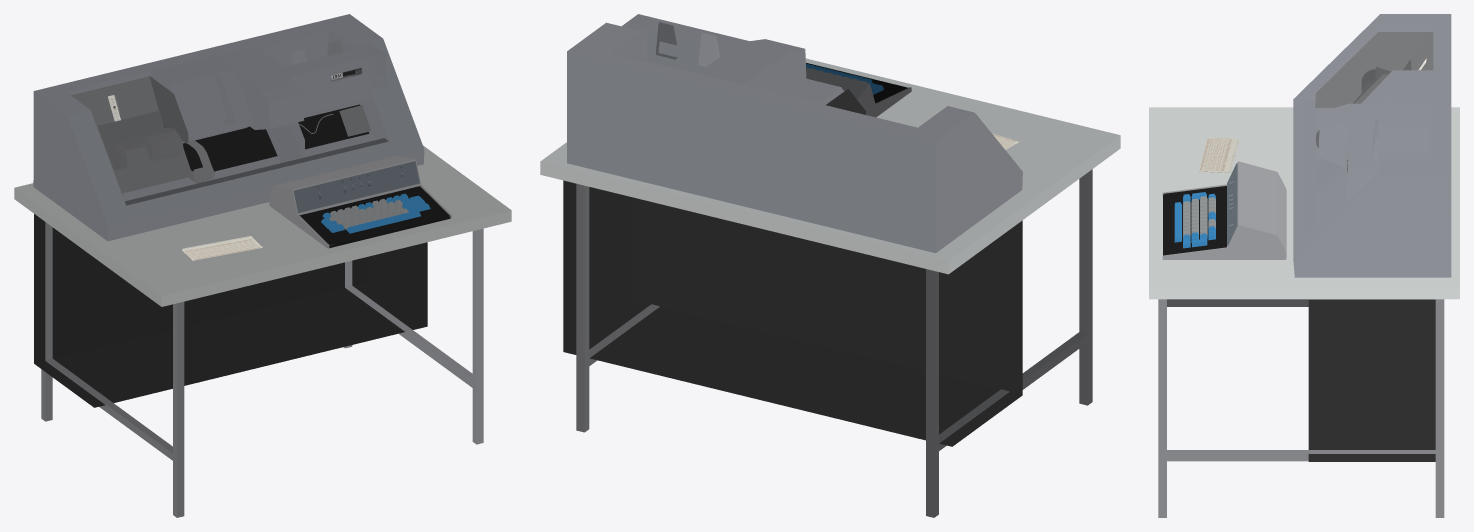
The picture shows the model from 3 angles, left to right: view 1: azimuth 30°, elevation 25°; view 2: azimuth 150°, elevation 25°; view 3: azimuth 270°, elevation 25°; orthographic projection. The views are drawn at different scales.
Visible parts, largest first — view 1: body_foundation, top_main, table_top, slot_cube_R, table_legs_L, keyboard_body_keyboard_body, mid_block, table_legs_R, base_back, keyboard_plate_02, slote_side_L1, keyboard_keys (+8 smaller); view 2: body_foundation, top_main, table_top, table_legs_L, slot_cube_R, table_legs_R, keyboard_body_keyboard_body, mid_block; view 3: table_top, top_main, body_foundation, keyboard_body_keyboard_body, slot_cube_R, table_legs_R, slote_side_L1, keyboard_keys, mid_block, base_bar, table_legs_L, card (+2 smaller).
Boxes of the visible parts, left/top/right/bottom form: body_foundation: left=34, top=214, right=427, bottom=407; top_main: left=33, top=14, right=424, bottom=241; table_top: left=14, top=145, right=511, bottom=306; slot_cube_R: left=215, top=27, right=386, bottom=129; table_legs_L: left=41, top=222, right=184, bottom=517; keyboard_body_keyboard_body: left=269, top=155, right=451, bottom=248; mid_block: left=150, top=55, right=253, bottom=143; table_legs_R: left=343, top=228, right=483, bottom=444; base_back: left=164, top=104, right=369, bottom=171; keyboard_plate_02: left=294, top=161, right=419, bottom=212; slote_side_L1: left=71, top=76, right=158, bottom=197; keyboard_keys: left=321, top=193, right=430, bottom=233; body_foundation: left=563, top=180, right=1022, bottom=446; top_main: left=567, top=22, right=1022, bottom=253; table_top: left=540, top=58, right=1120, bottom=274; table_legs_L: left=926, top=169, right=1092, bottom=517; slot_cube_R: left=611, top=14, right=806, bottom=84; table_legs_R: left=576, top=183, right=659, bottom=432; keyboard_body_keyboard_body: left=806, top=63, right=911, bottom=117; mid_block: left=743, top=69, right=844, bottom=104; table_top: left=1149, top=107, right=1459, bottom=299; top_main: left=1293, top=14, right=1451, bottom=277; body_foundation: left=1308, top=300, right=1435, bottom=461; keyboard_body_keyboard_body: left=1162, top=161, right=1286, bottom=259; slot_cube_R: left=1319, top=103, right=1433, bottom=203; table_legs_R: left=1158, top=299, right=1444, bottom=517; slote_side_L1: left=1315, top=32, right=1433, bottom=107; keyboard_keys: left=1174, top=192, right=1215, bottom=248; mid_block: left=1361, top=70, right=1433, bottom=103; base_bar: left=1305, top=99, right=1315, bottom=234; table_legs_L: left=1167, top=299, right=1435, bottom=306; card: left=1199, top=137, right=1238, bottom=172.
Bounding box in the file's own units: 2 × 1.84 × 1.46.
4 materials, 4 textured.
